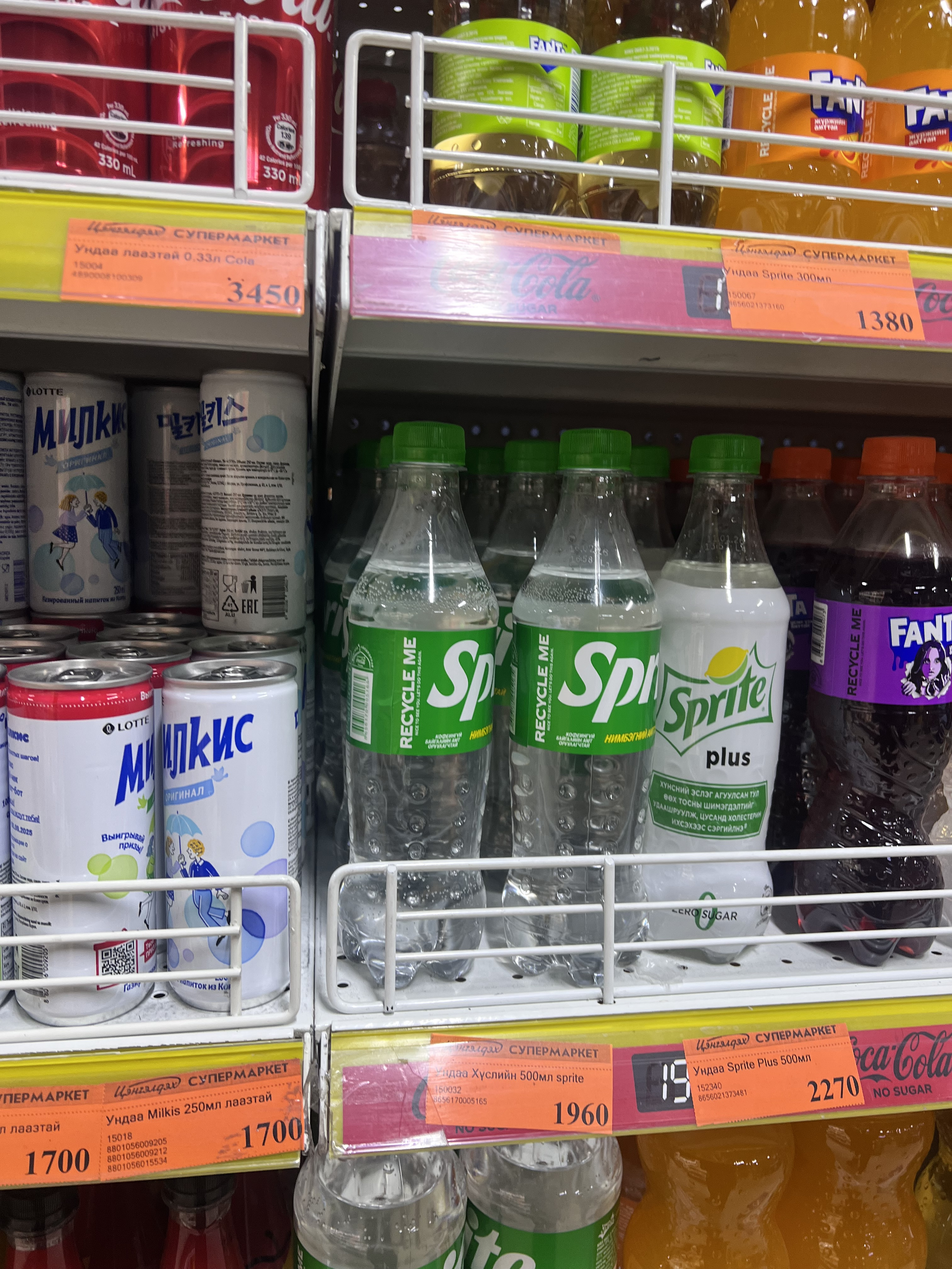coca_cola_500ml: (153, 0, 333, 207), (0, 70, 148, 180)
sprite_500ml: (490, 404, 656, 981), (335, 417, 490, 997)
